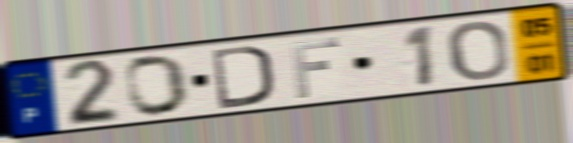1: (397, 23, 436, 91)
2: (60, 57, 123, 130)
D: (209, 43, 277, 111)
F: (287, 35, 343, 100)
O: (123, 52, 193, 118), (444, 19, 512, 83)
